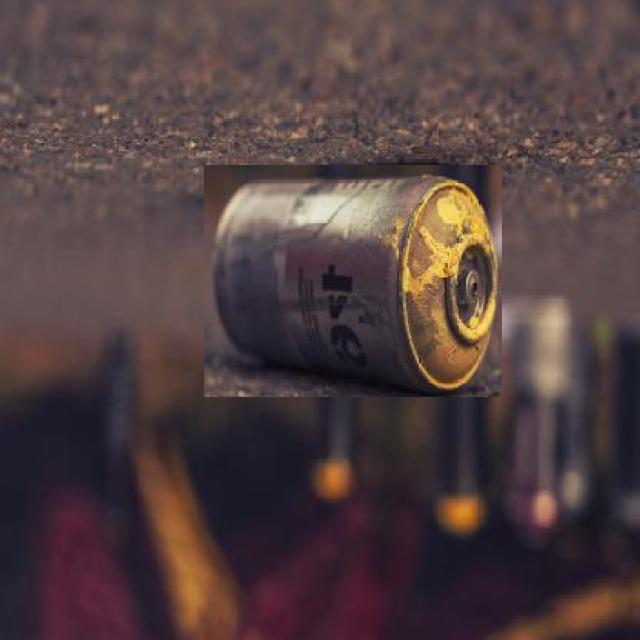Metal Waste: (204, 165, 502, 397)
